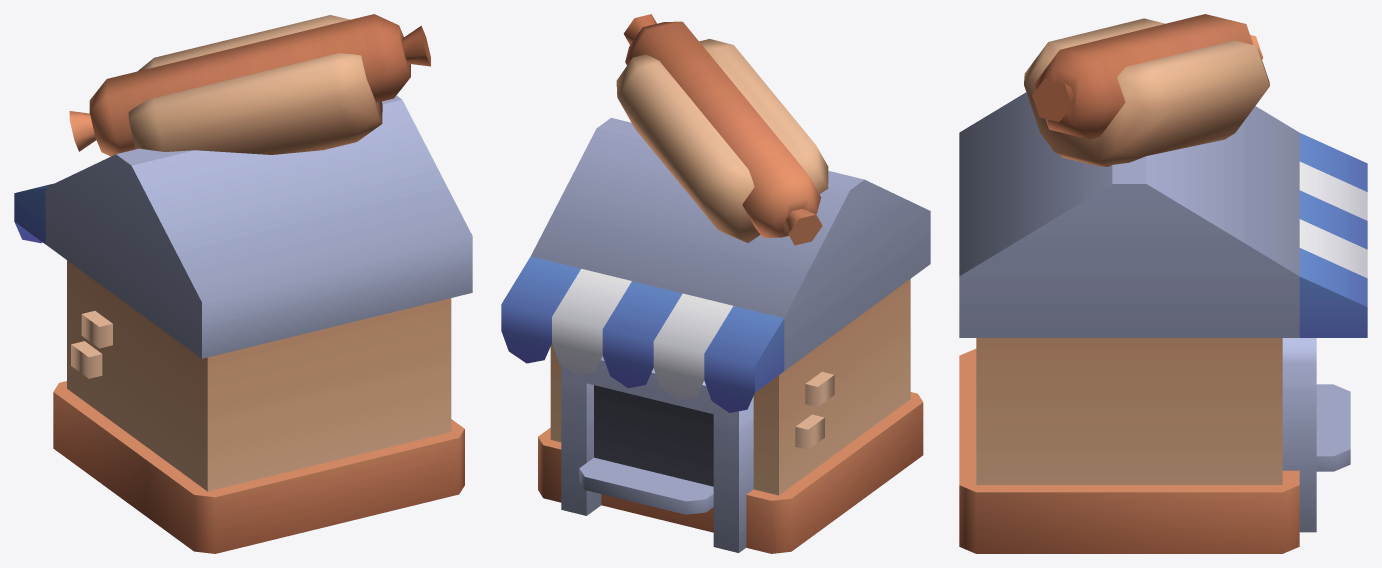
The model's file is k-coaster-stall-food.glb.
The picture shows the model from 3 angles, left to right: view 1: azimuth 30°, elevation 25°; view 2: azimuth 150°, elevation 25°; view 3: azimuth 270°, elevation 25°; orthographic projection. The views are drawn at different scales.
Parts seen in each view (by area): view 1: stall-food; view 2: stall-food; view 3: stall-food.
Part boxes in pixels (x1,y1,x2,y2): stall-food: (14,14,472,553); stall-food: (501,14,930,553); stall-food: (959,14,1367,553).
Size of the model in its own units: 1.04 by 1.54 by 1.2.
Materials: 1 (1 with a texture image).
